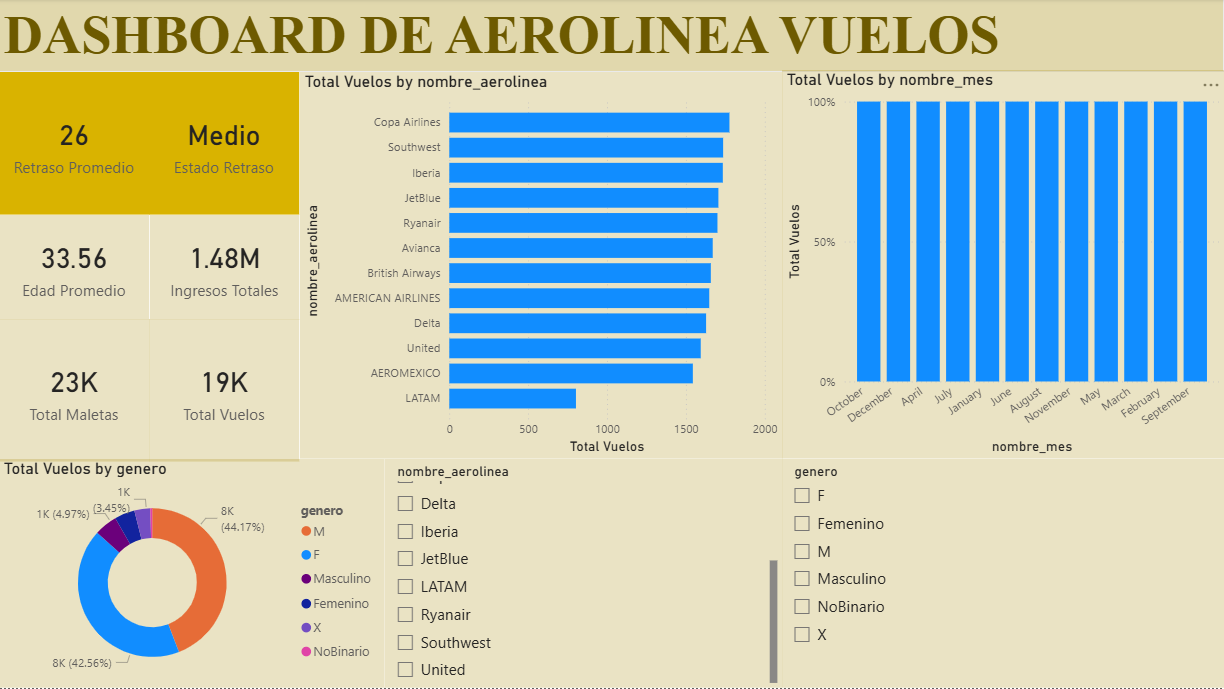

The dashboard page shown, as its layout file describes it:
{"tool":"powerbi","page":{"name":"Page 1","canvas":[1280,720],"ordinal":0},"visuals":[{"type":"textbox","box":[0,0,1280,76.3],"z":0},{"type":"card","fields":{"Values":["Dim_Aerolinea.Retraso Promedio"]},"box":[0,76.3,156.7,149.4],"z":1000},{"type":"card","fields":{"Values":["Dim_Aerolinea.Estado Retraso"]},"box":[156.7,76.3,156.7,149.4],"z":1001},{"type":"card","fields":{"Values":["Dim_Aerolinea.Edad Promedio"]},"box":[0,225.7,156.7,108.7],"z":1002},{"type":"card","fields":{"Values":["Dim_Aerolinea.Total Maletas"]},"box":[0,334.4,156.7,149.4],"z":1003},{"type":"card","fields":{"Values":["Dim_Aerolinea.Total Vuelos"]},"box":[156.7,334.4,156.7,149.4],"z":1004},{"type":"card","fields":{"Values":["Dim_Aerolinea.Ingresos Totales"]},"box":[157.8,225.7,155.7,108.7],"z":1005},{"type":"barChart","fields":{"Category":["Dim_Aerolinea.nombre_aerolinea"],"Y":["Dim_Aerolinea.Total Vuelos"]},"box":[314.5,76.3,503.6,404.4],"z":1006},{"type":"donutChart","fields":{"Category":["Dim_Pasajero.genero"],"Y":["Dim_Aerolinea.Total Vuelos"]},"box":[0,480.7,403.3,239.3],"z":1007},{"type":"hundredPercentStackedColumnChart","fields":{"Y":["Dim_Aerolinea.Total Vuelos"],"Category":["Dim_Tiempo.nombre_mes"]},"box":[818.2,74.2,461.8,406.5],"z":1008},{"type":"slicer","fields":{"Values":["Dim_Aerolinea.nombre_aerolinea"]},"box":[403.3,480.7,414.8,239.3],"z":1009},{"type":"slicer","fields":{"Values":["Dim_Pasajero.genero"]},"box":[818.2,480.7,461.8,239.3],"z":1010}]}

Visuals, with their boxes in screenshot pixels (x1, y1, x2, y2), scaled from the page's 1280x720 canvas onto the 1224x689 screenshot:
textbox: 0 0 1223 73
card - Dim_Aerolinea.Retraso Promedio: 0 73 150 216
card - Dim_Aerolinea.Estado Retraso: 150 73 300 216
card - Dim_Aerolinea.Edad Promedio: 0 216 150 320
card - Dim_Aerolinea.Total Maletas: 0 320 150 463
card - Dim_Aerolinea.Total Vuelos: 150 320 300 463
card - Dim_Aerolinea.Ingresos Totales: 151 216 300 320
barChart - Dim_Aerolinea.nombre_aerolinea x Dim_Aerolinea.Total Vuelos: 301 73 782 460
donutChart - Dim_Pasajero.genero x Dim_Aerolinea.Total Vuelos: 0 460 386 688
hundredPercentStackedColumnChart - Dim_Aerolinea.Total Vuelos x Dim_Tiempo.nombre_mes: 782 71 1223 460
slicer - Dim_Aerolinea.nombre_aerolinea: 386 460 782 688
slicer - Dim_Pasajero.genero: 782 460 1223 688
